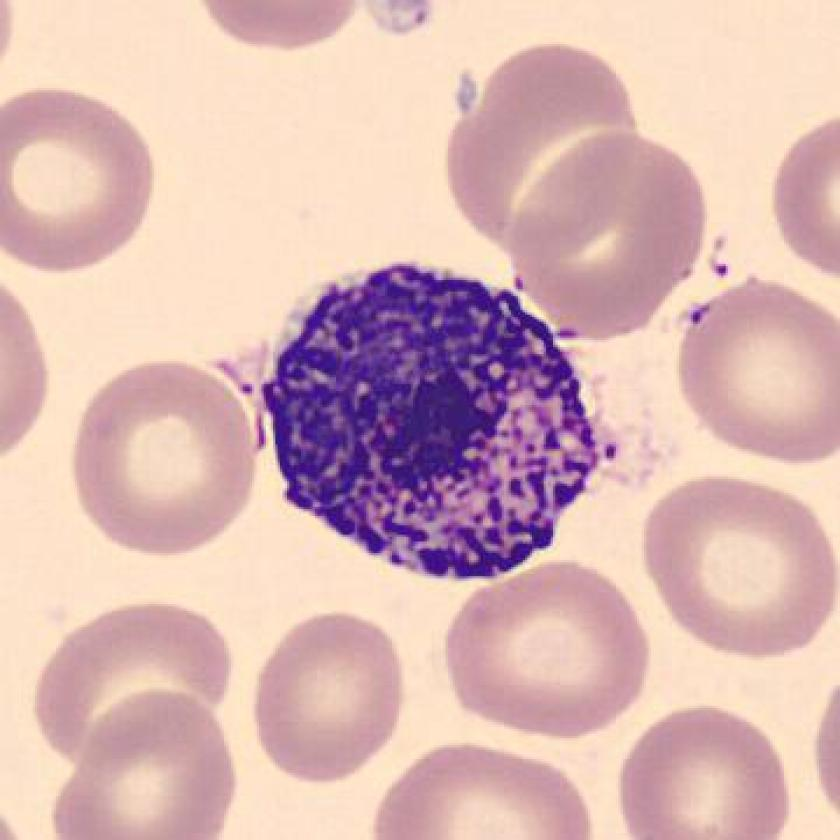basophil: (251, 251, 617, 593)
